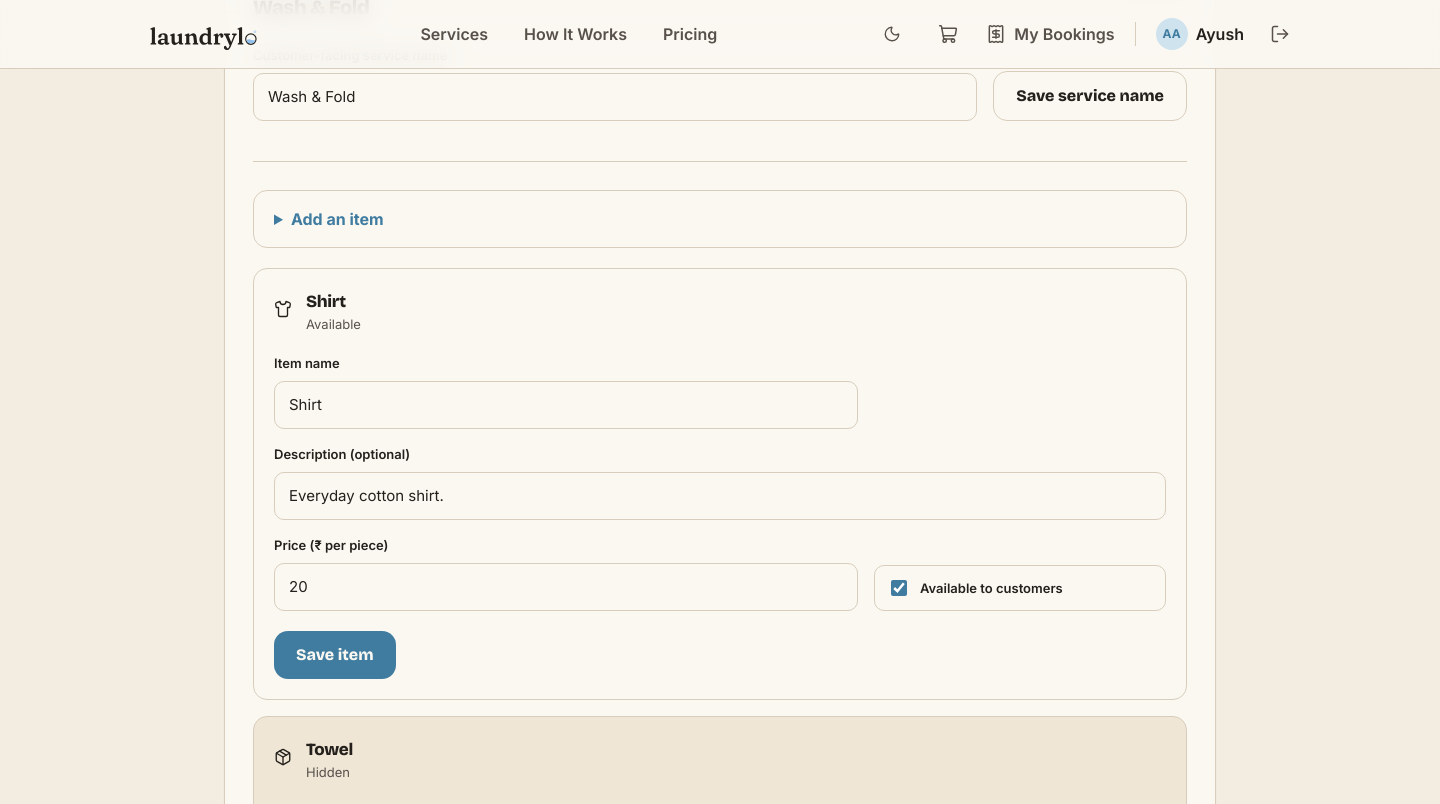
laundry-partner catalogue management › validates empty names and malformed prices before making a request
(page scrolled)
Clear the field labelled "Item name": (566, 405) left=274, top=381, right=858, bottom=429
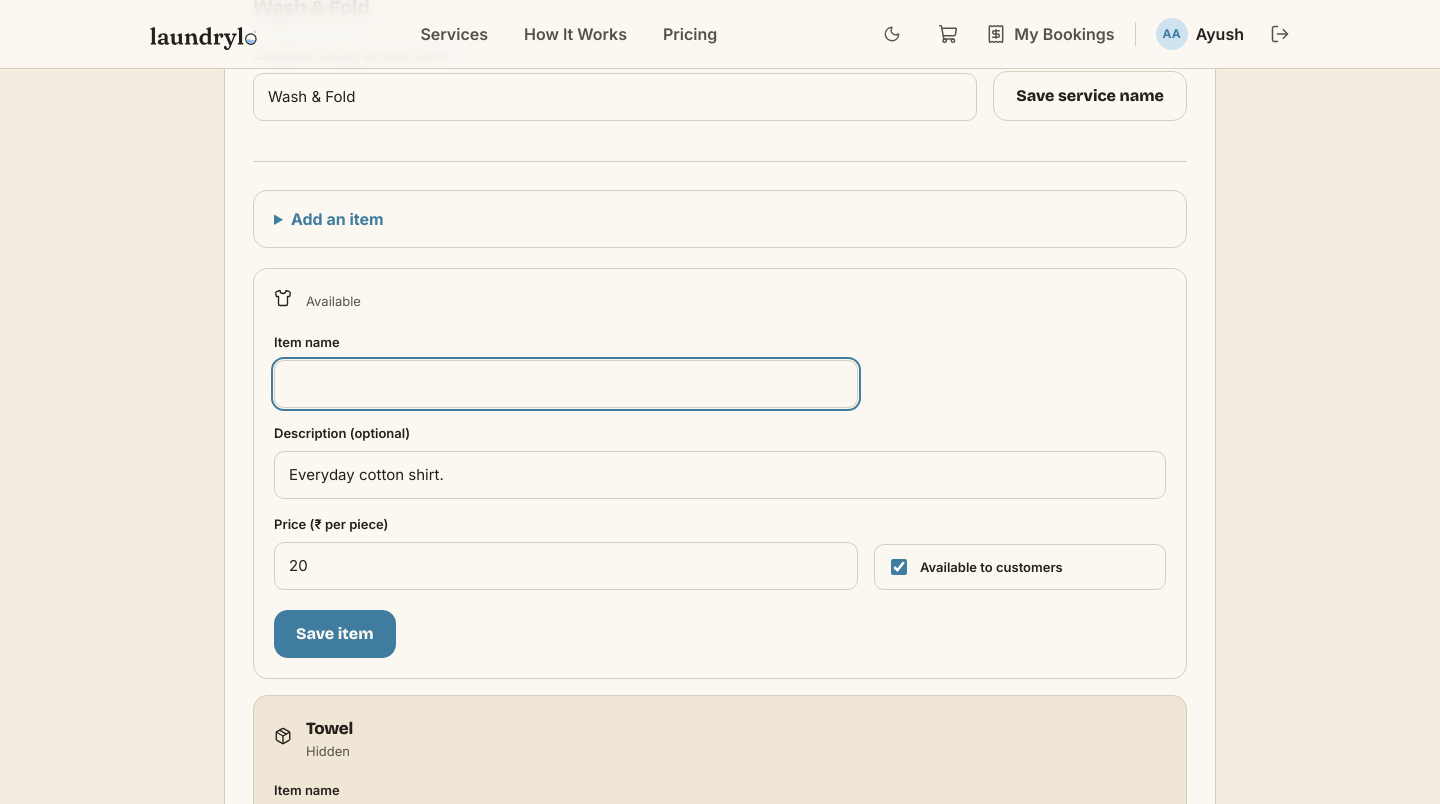
Click the button "Save item": click(335, 634) left=274, top=610, right=396, bottom=658
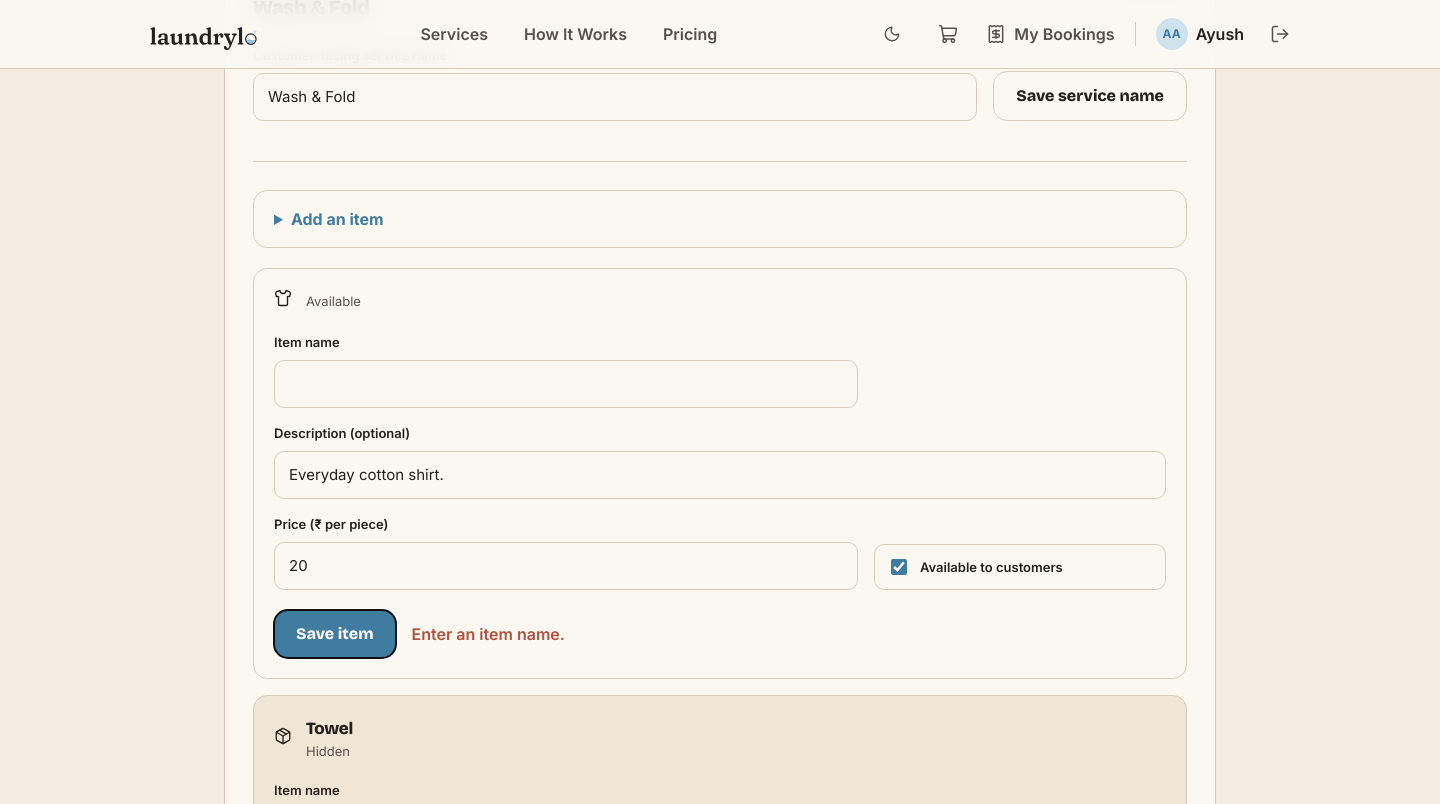
expect the message reads "Enter an item name.": met, box left=412, top=624, right=565, bottom=644
In the 1st field labelled "Item name": (566, 384) left=274, top=360, right=858, bottom=408, type "Shirt"
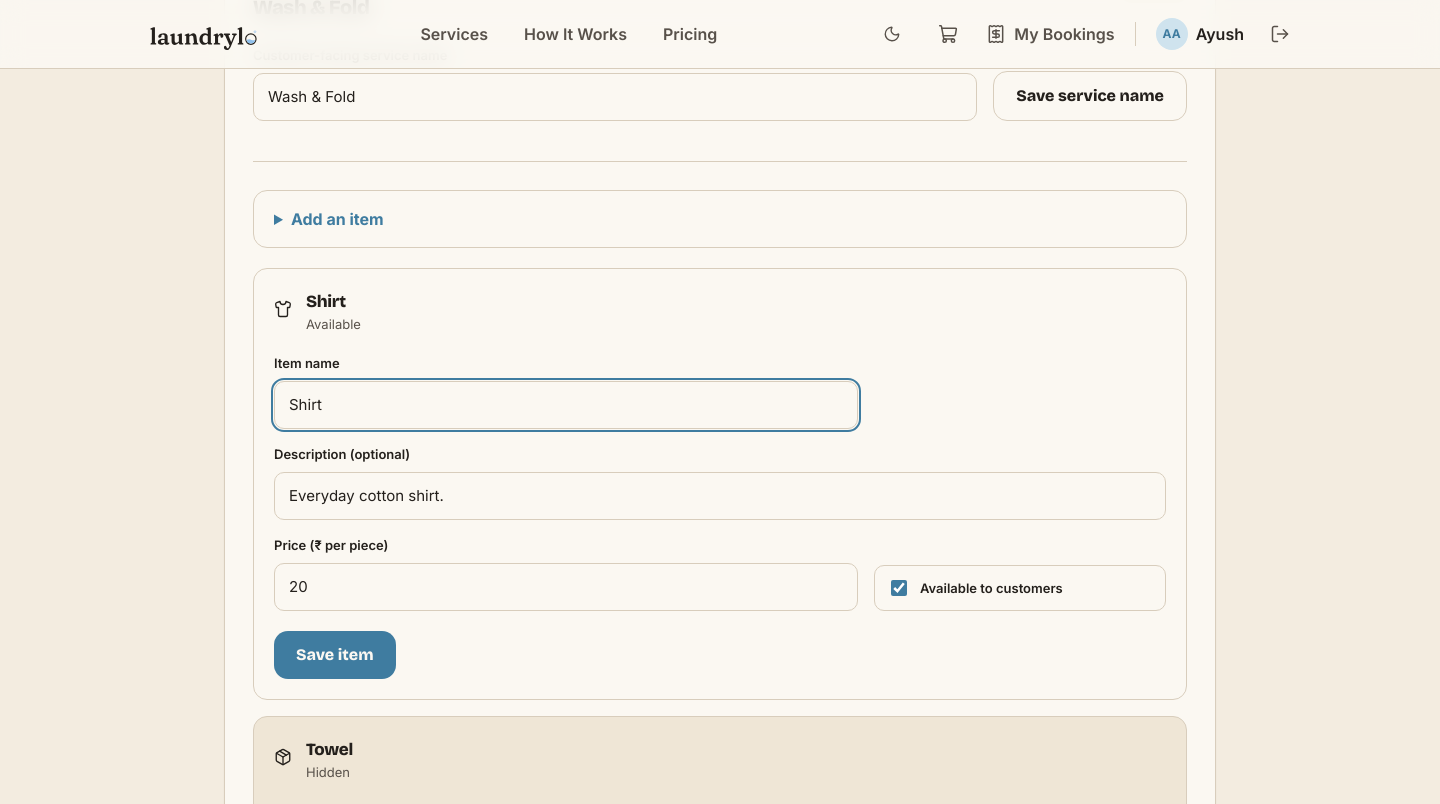
Clear the number field labelled "Price (₹ per piece)": (566, 587) left=274, top=563, right=858, bottom=611
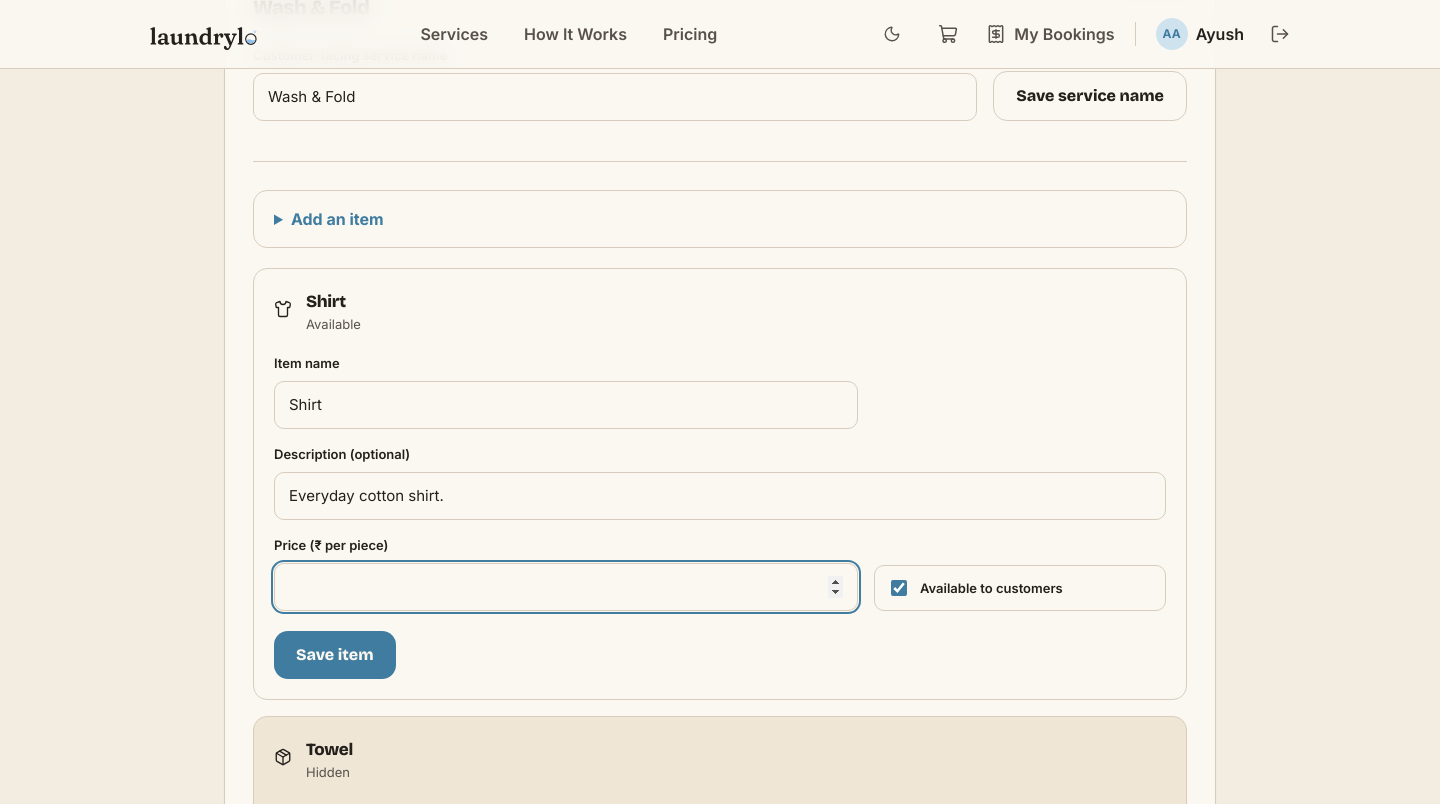
Click the button "Save item": click(335, 655) left=274, top=631, right=396, bottom=679
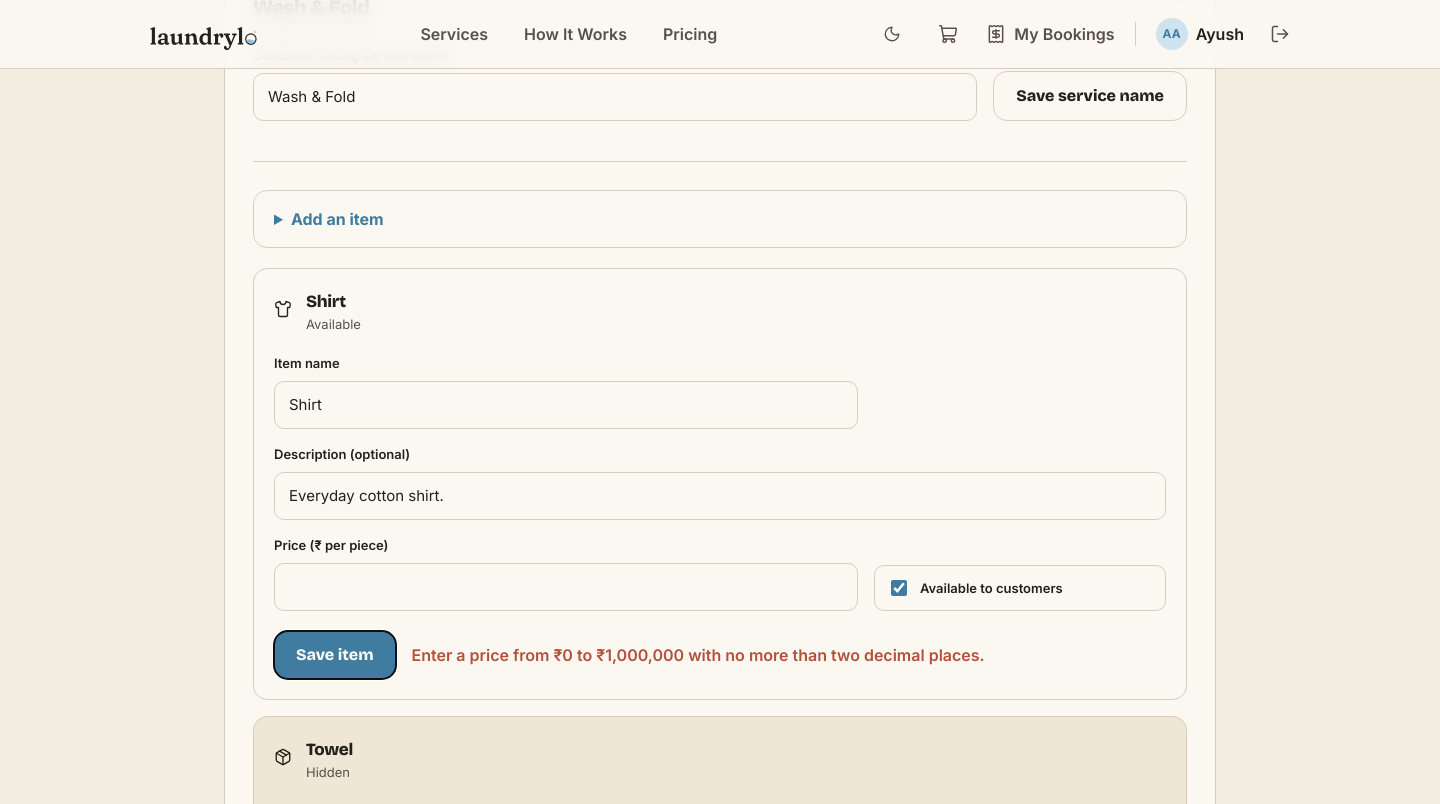
expect the message shows "Enter a price from": met, box left=412, top=645, right=985, bottom=665
